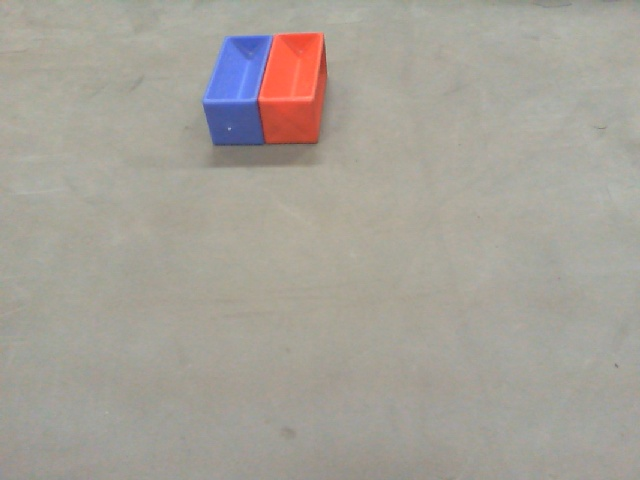BlueSample: (200, 33, 270, 147)
RedSample: (257, 24, 331, 156)
